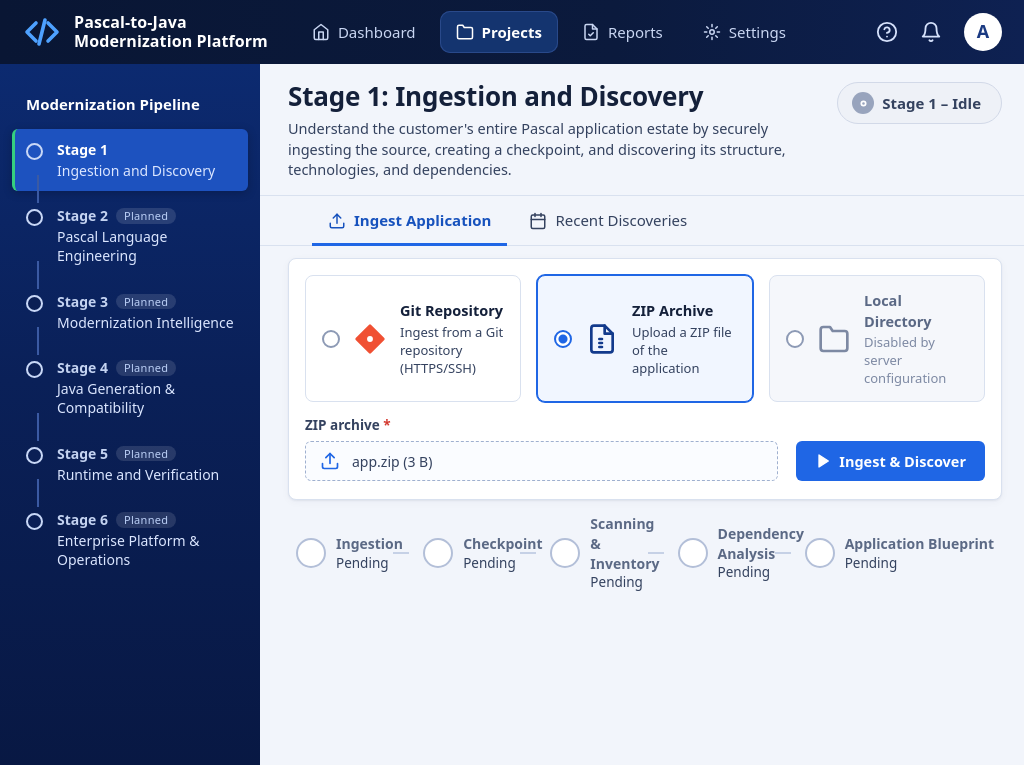
Test: ZIP form › accepts a valid zip, uploads with progress and starts polling
Earlier steps of the test are not shown.
Expected: the text "app.zip (3 B)" is shown, x1=352 y1=452 x2=432 y2=471
Click the button with id "btn-zip" at (891, 461), box x1=796 y1=441 x2=985 y2=481
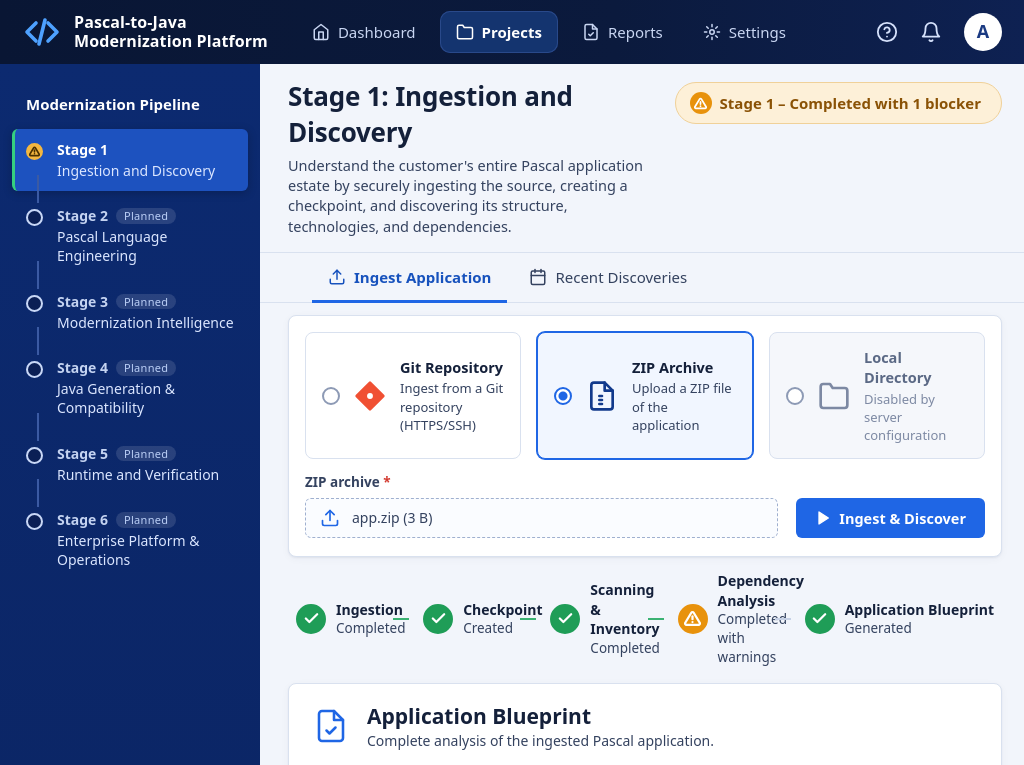
Now the heading "Application Blueprint" is shown, box x1=367 y1=702 x2=591 y2=730
